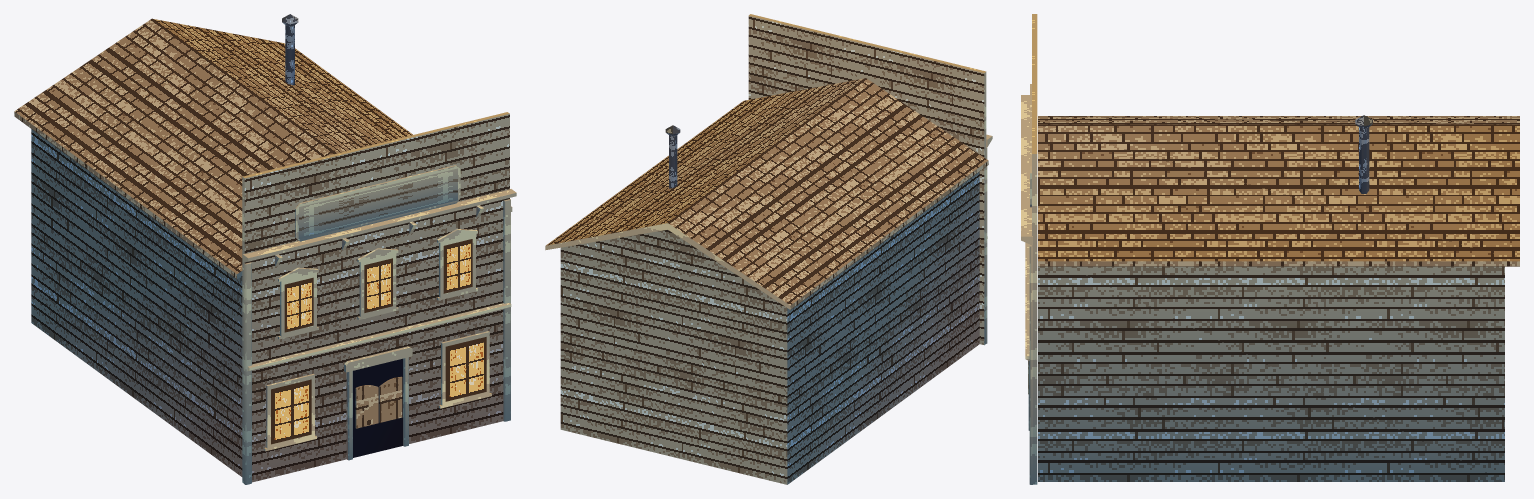
The model's file is wtown.saloon__plain.glb.
The picture shows the model from 3 angles, left to right: view 1: azimuth 30°, elevation 25°; view 2: azimuth 150°, elevation 25°; view 3: azimuth 270°, elevation 25°; orthographic projection. The views are drawn at different scales.
Parts seen in each view (by area): view 1: kit_front, kit_roof, kit_body, kit_card_panes, kit_trim, kit_windows, kit_door, kit_stovepipe; view 2: kit_body, kit_roof, kit_front, kit_stovepipe; view 3: kit_body, kit_roof, kit_trim, kit_front, kit_stovepipe.
Boxes of the visible parts, x1,y1,x2,y2 form: kit_front: (242,112,509,483); kit_roof: (14,18,512,278); kit_body: (31,129,242,476); kit_card_panes: (271,168,486,457); kit_trim: (242,165,516,484); kit_windows: (264,229,491,451); kit_door: (355,376,402,428); kit_stovepipe: (282,14,298,85); kit_body: (560,172,979,484); kit_roof: (545,78,988,309); kit_front: (748,14,986,345); kit_stovepipe: (665,125,680,188); kit_body: (1038,266,1504,481); kit_roof: (1038,116,1519,266); kit_trim: (1021,84,1032,484); kit_front: (1032,14,1037,484); kit_stovepipe: (1355,115,1372,193).
Bounding box in the file's own units: 8.1 × 8.7 × 11.75.
Materials: 8 (8 with a texture image).
